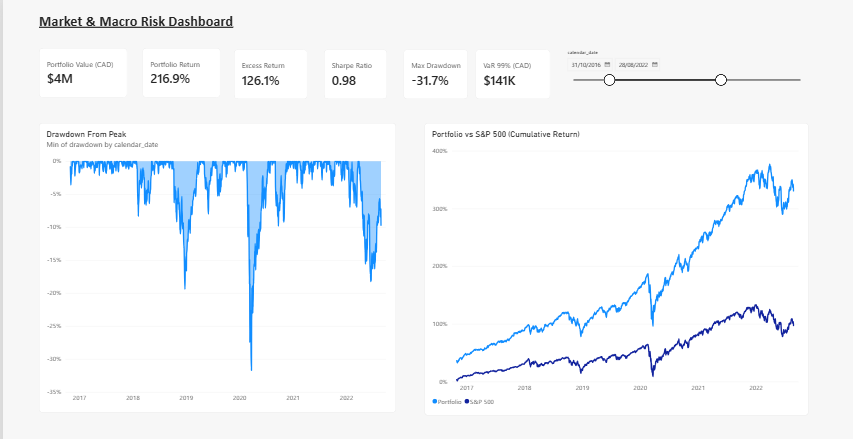

The page's visual inventory and layout, read from the dashboard file:
{"tool":"powerbi","page":{"name":"Executive Overview","canvas":[1920,1080],"ordinal":0},"visuals":[{"type":"cardVisual","fields":{"Data":["_Measures.Portfolio Value (CAD)"]},"box":[80,106.7,196.7,110],"z":0},{"type":"cardVisual","fields":{"Data":["_Measures.Portfolio Return"]},"box":[310,106.7,173.3,110],"z":1000},{"type":"cardVisual","fields":{"Data":["_Measures.Excess Return"]},"box":[513.3,110,163.3,110],"z":2000},{"type":"cardVisual","fields":{"Data":["_Measures.Sharpe Ratio"]},"box":[713.3,110,140,110],"z":3000},{"type":"cardVisual","fields":{"Data":["_Measures.Max Drawdown"]},"box":[890,110,143.3,110],"z":4000},{"type":"cardVisual","fields":{"Data":["_Measures.VaR 99% (CAD)"]},"box":[1050,110,166.7,110],"z":5000},{"type":"lineChart","title":"Portfolio vs S&P 500 (Cumulative Return)","fields":{"Category":["dim_date.calendar_date"],"Y":["Avg(mart_portfolio_daily.portfolio_cumulative_return)","Avg(mart_portfolio_daily.benchmark_cumulative_return)"]},"box":[936.7,273.3,853.3,650],"z":6000},{"type":"areaChart","title":"Drawdown From Peak","fields":{"Category":["dim_date.calendar_date"],"Y":["Min(mart_portfolio_daily.drawdown)"]},"box":[80,273.3,793.3,643.3],"z":7000},{"type":"slicer","fields":{"Values":["dim_date.calendar_date"]},"box":[1246.7,110,544,114],"z":8000},{"type":"textbox","box":[80,26.7,458.6,41.4],"z":9000}]}

Visuals, with their boxes on the page's 1920x1080 design canvas (x1, y1, x2, y2). These are canvas units, not pixel positions in the 853x439 screenshot, which may show the page scaled, cropped or inside an application window:
cardVisual - _Measures.Portfolio Value (CAD): box(80, 107, 277, 217)
cardVisual - _Measures.Portfolio Return: box(310, 107, 483, 217)
cardVisual - _Measures.Excess Return: box(513, 110, 677, 220)
cardVisual - _Measures.Sharpe Ratio: box(713, 110, 853, 220)
cardVisual - _Measures.Max Drawdown: box(890, 110, 1033, 220)
cardVisual - _Measures.VaR 99% (CAD): box(1050, 110, 1217, 220)
"Portfolio vs S&P 500 (Cumulative Return)" lineChart: box(937, 273, 1790, 923)
"Drawdown From Peak" areaChart: box(80, 273, 873, 917)
slicer - dim_date.calendar_date: box(1247, 110, 1791, 224)
textbox: box(80, 27, 539, 68)
